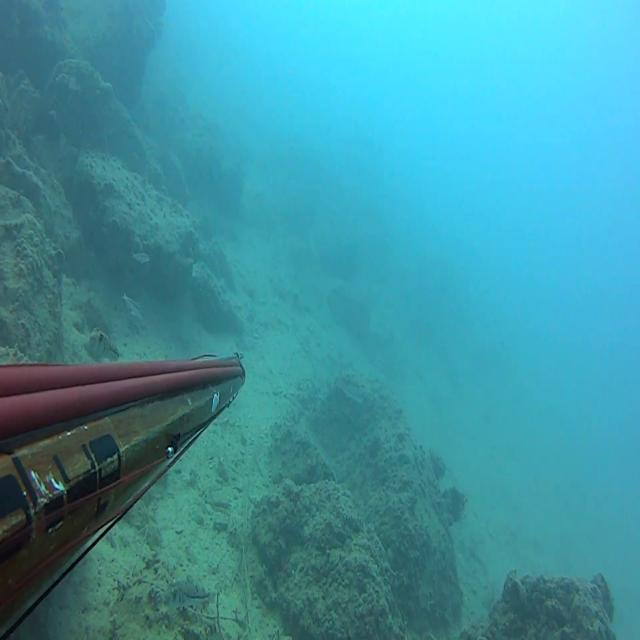Balon Baligi: (164, 580, 217, 608), (90, 326, 120, 361), (335, 378, 364, 403), (122, 292, 142, 318), (131, 250, 149, 264)
